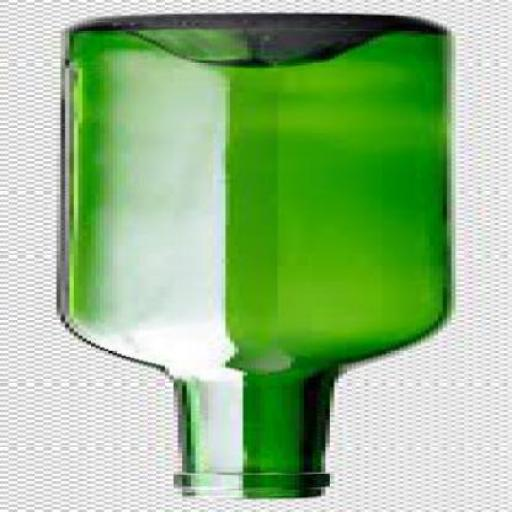glass: (52, 14, 446, 499)
